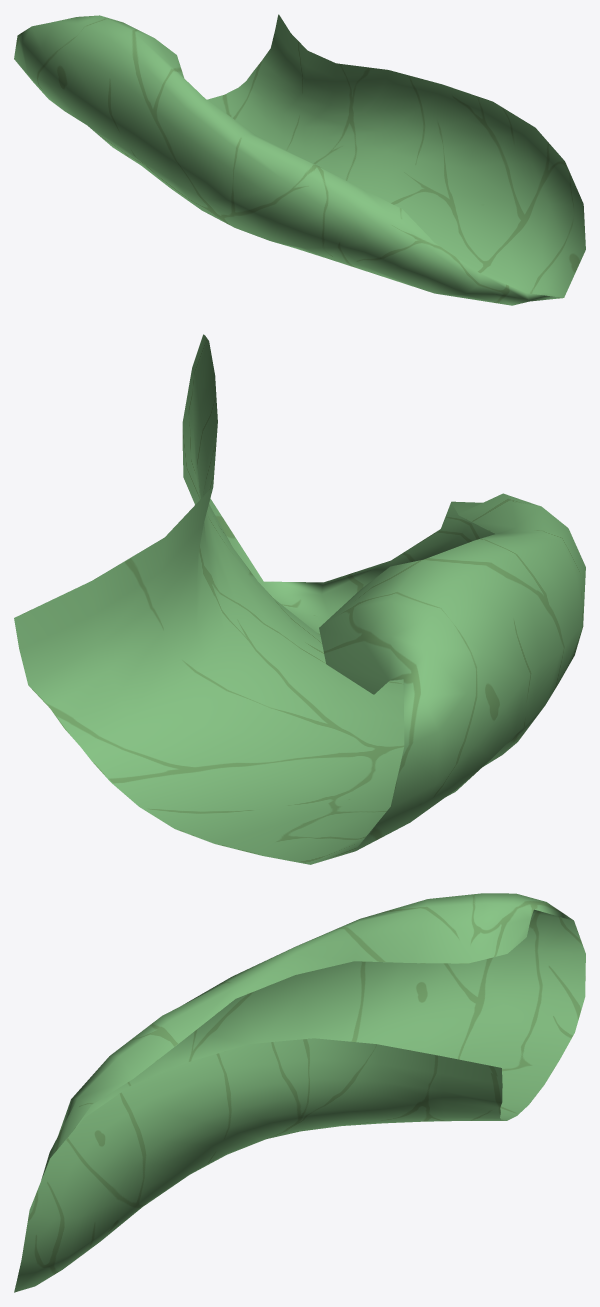
File: Mesh_Home_RF_Leaf_06_SM.fbx
3 views of the same model, one above another, from view 1: azimuth 30°, elevation 25°; view 2: azimuth 150°, elevation 25°; view 3: azimuth 270°, elevation 25° (orthographic). The views are drawn at different scales.
Visible parts, largest first — view 1: Mesh_Home_RF_Leaf_06; view 2: Mesh_Home_RF_Leaf_06; view 3: Mesh_Home_RF_Leaf_06.
Boxes of the visible parts, x1,y1,x2,y2 form: Mesh_Home_RF_Leaf_06: (14, 14, 585, 305); Mesh_Home_RF_Leaf_06: (14, 334, 585, 864); Mesh_Home_RF_Leaf_06: (14, 893, 585, 1292).
Bounding box in the file's own units: 1247 × 714 × 1529.
1 material, 1 textured.
